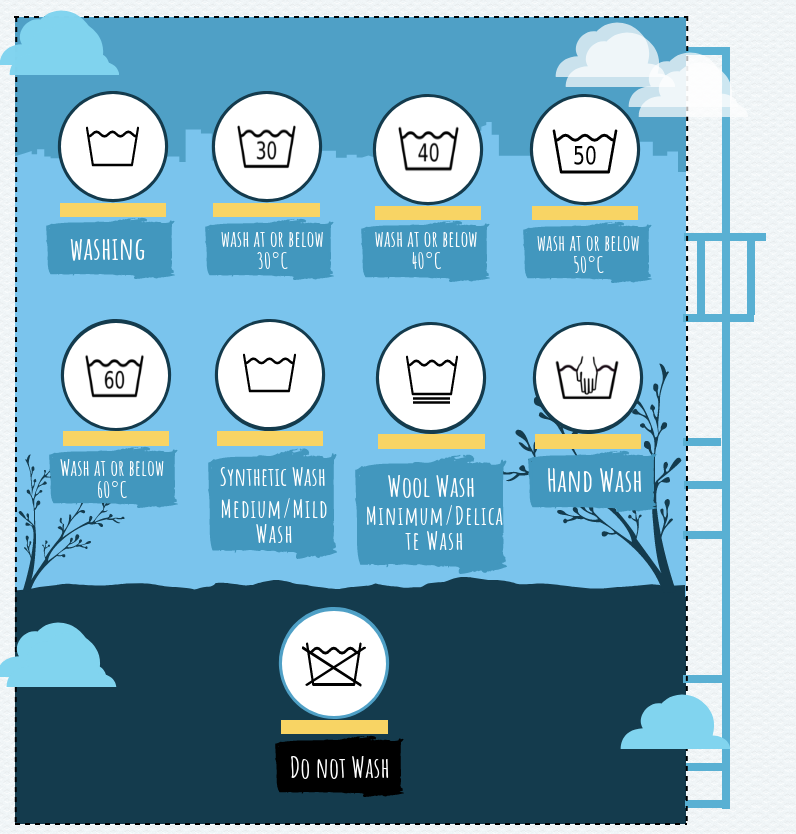do_not_wash: (296, 637, 369, 693)
